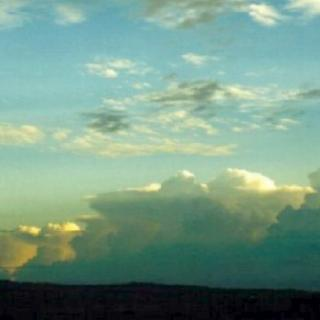Cumulonimbus: (55, 0, 320, 289)
